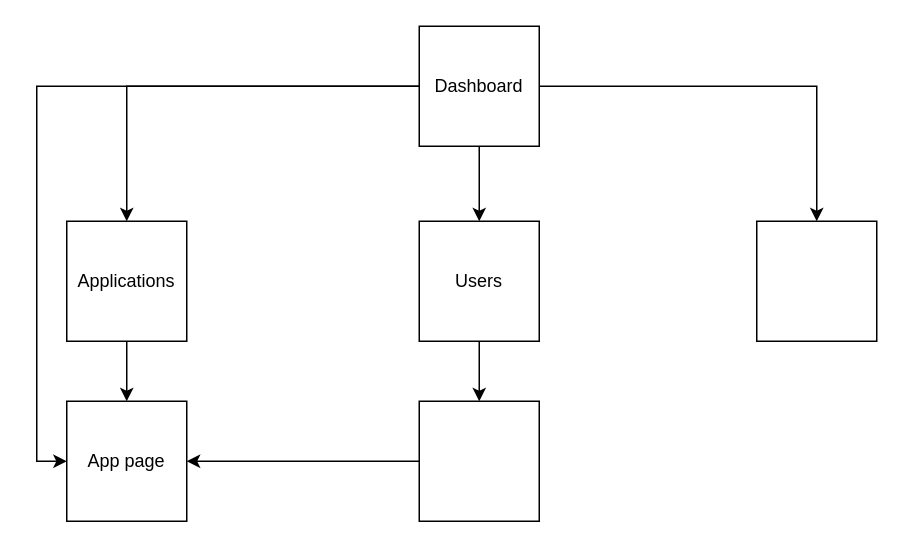
Some shapes in this 903 by 548 pixel diagram are drawn without their labels. Each missing label, with the centre of its shape:
Procurement: point 816,280
User page: point 478,460
